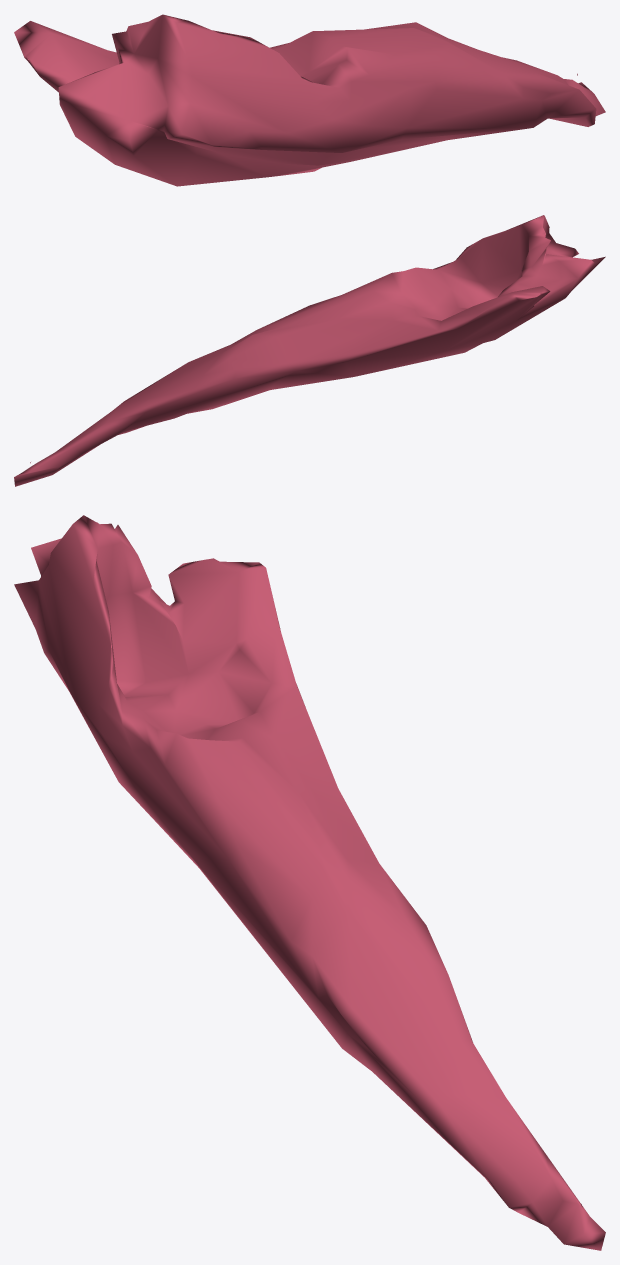
The picture shows the model from 3 angles, top to bottom: view 1: azimuth 30°, elevation 25°; view 2: azimuth 150°, elevation 25°; view 3: azimuth 270°, elevation 25°; orthographic projection. The views are drawn at different scales.
Parts seen in each view (by area): view 1: 左侧拇收肌斜头; view 2: 左侧拇收肌斜头; view 3: 左侧拇收肌斜头.
Boxes of the visible parts, x1=… form: 左侧拇收肌斜头: x1=14, y1=14, x2=605, y2=186; 左侧拇收肌斜头: x1=14, y1=215, x2=605, y2=486; 左侧拇收肌斜头: x1=14, y1=515, x2=605, y2=1250.
Bounding box in the file's own units: 0.0648 × 0.0363 × 0.0458.
